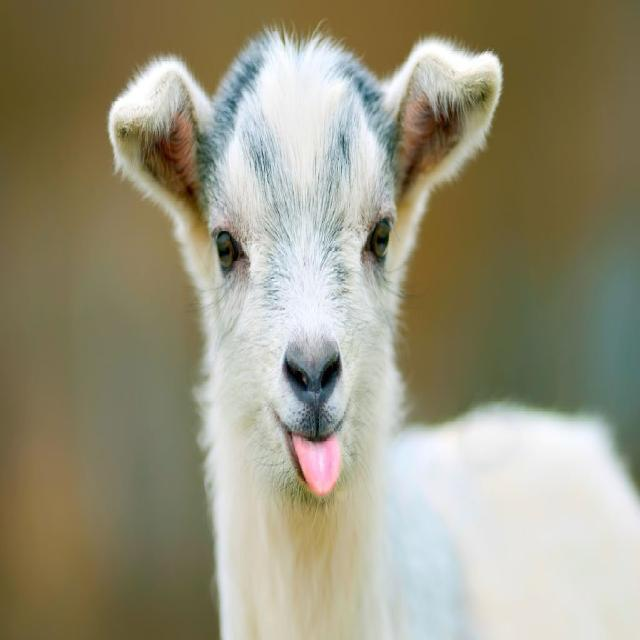Goat: (109, 24, 640, 640)
